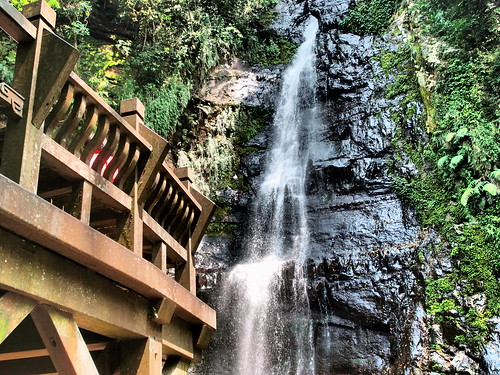wufengciWaterfall: (214, 19, 398, 375)
